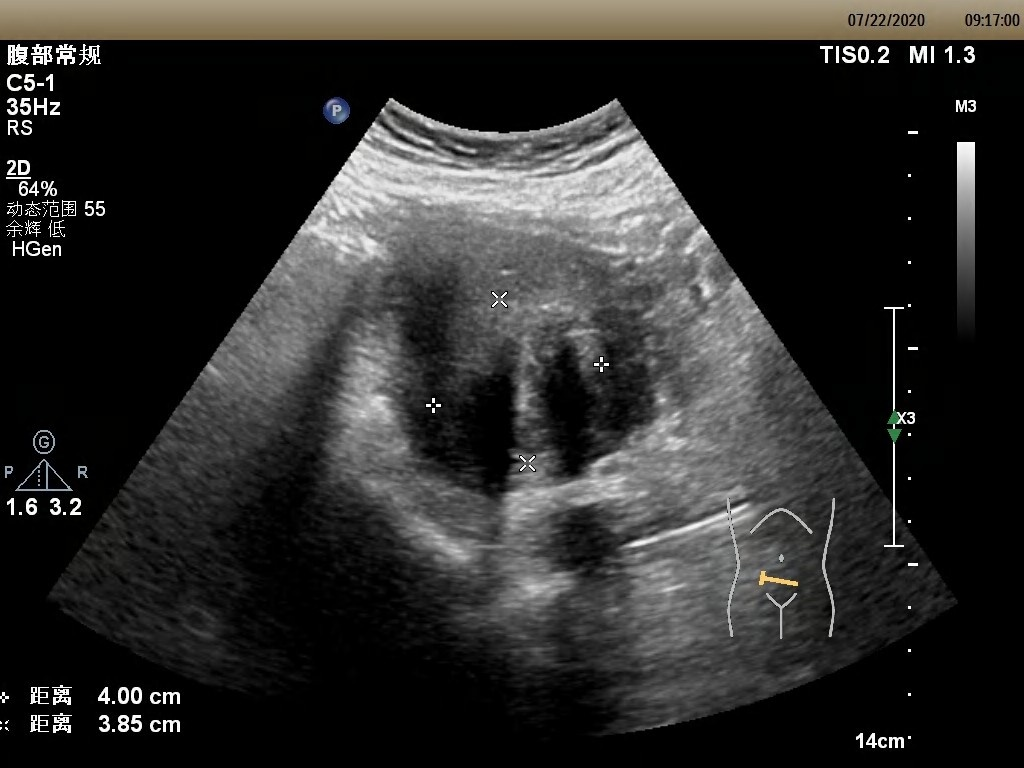肌瘤: (442, 297, 594, 460)
